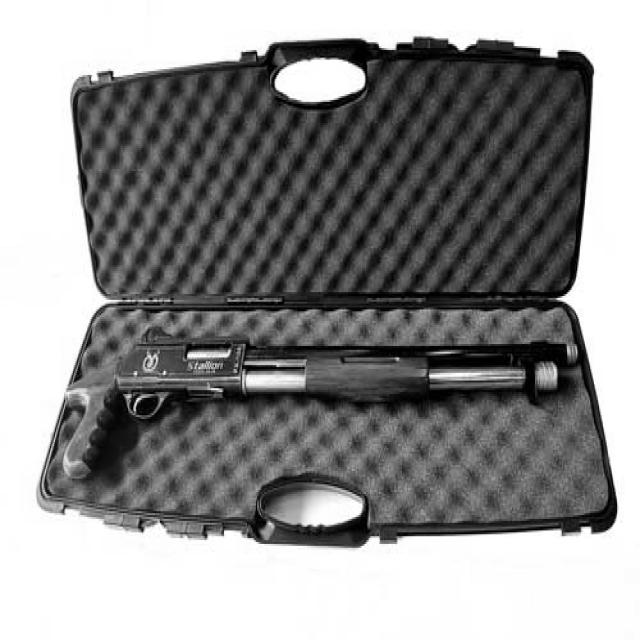Short-Gun: (53, 327, 585, 492)
